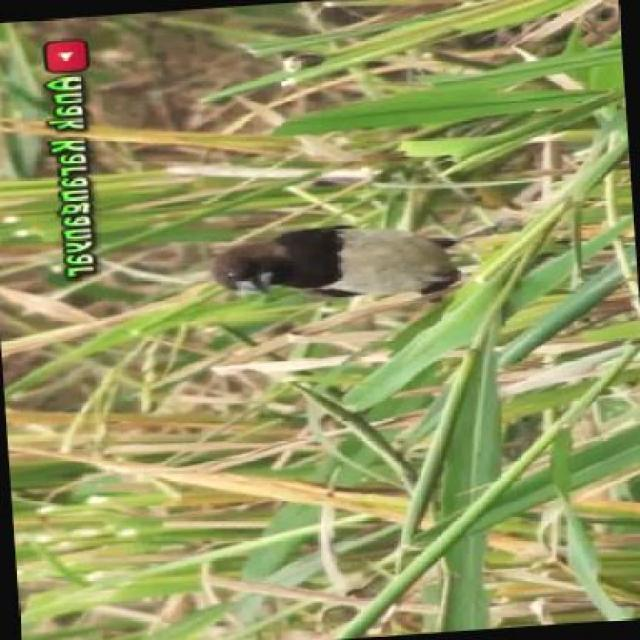Bird: (197, 212, 467, 311)
